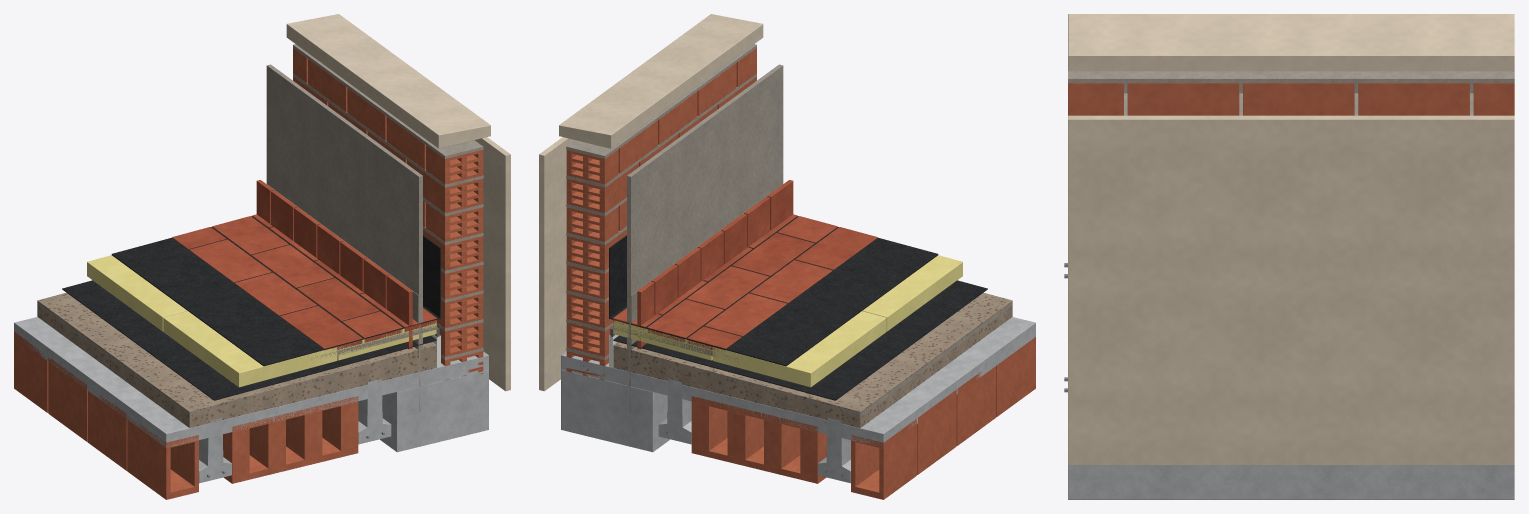
File: detalle1_montaje_piezas.glb
The picture shows the model from 3 angles, left to right: view 1: azimuth 30°, elevation 25°; view 2: azimuth 150°, elevation 25°; view 3: azimuth 270°, elevation 25°; orthographic projection. The views are drawn at different scales.
Parts seen in each view (by area): view 1: PH03_90_EnfoscadoInt, PH04_00_FPHormigon, PH07_00_Membrana, PH03_92_Albardilla, PH02_01_Compresion, PH01_00_BovedillaC, PH03_91_EnfoscadoExt, PH05_00_BarreraVapor, PH02_00_Zuncho, PH06_00_XPS, PH01_00_BovedillaL, PH06_02_XPS (+36 smaller); view 2: PH03_90_EnfoscadoInt, PH04_00_FPHormigon, PH07_00_Membrana, PH03_92_Albardilla, PH02_01_Compresion, PH01_03_BovedillaC, PH03_91_EnfoscadoExt, PH02_00_Zuncho, PH05_00_BarreraVapor, PH06_02_XPS, PH01_03_BovedillaL, PH06_00_XPS (+35 smaller); view 3: PH03_91_EnfoscadoExt, PH03_92_Albardilla, PH02_00_Zuncho, PH03_R7_M, PH03_R7_B1, PH03_R7_B2, PH03_R7_B3, PH03_R7_B0, PH03_R7_B4.
Part boxes in pixels (x1,y1,x2,y2): PH03_90_EnfoscadoInt: [266, 64, 422, 412]; PH04_00_FPHormigon: [37, 292, 436, 427]; PH07_00_Membrana: [111, 216, 440, 366]; PH03_92_Albardilla: [286, 14, 490, 148]; PH02_01_Compresion: [14, 317, 488, 447]; PH01_00_BovedillaC: [223, 396, 358, 483]; PH03_91_EnfoscadoExt: [475, 137, 510, 391]; PH05_00_BarreraVapor: [62, 280, 436, 400]; PH02_00_Zuncho: [380, 369, 488, 452]; PH06_00_XPS: [163, 311, 337, 387]; PH01_00_BovedillaL: [127, 417, 198, 499]; PH06_02_XPS: [87, 255, 187, 331]; PH03_90_EnfoscadoInt: [627, 64, 783, 412]; PH04_00_FPHormigon: [613, 292, 1012, 427]; PH07_00_Membrana: [609, 216, 938, 366]; PH03_92_Albardilla: [559, 14, 763, 148]; PH02_01_Compresion: [561, 317, 1035, 446]; PH01_03_BovedillaC: [691, 396, 826, 483]; PH03_91_EnfoscadoExt: [539, 137, 574, 391]; PH02_00_Zuncho: [561, 369, 669, 452]; PH05_00_BarreraVapor: [613, 280, 987, 400]; PH06_02_XPS: [712, 311, 886, 387]; PH01_03_BovedillaL: [851, 419, 916, 499]; PH06_00_XPS: [862, 255, 962, 331]; PH03_91_EnfoscadoExt: [1068, 115, 1514, 464]; PH03_92_Albardilla: [1068, 14, 1514, 71]; PH02_00_Zuncho: [1068, 465, 1514, 499]; PH03_R7_M: [1068, 71, 1514, 82]; PH03_R7_B1: [1127, 83, 1239, 115]; PH03_R7_B2: [1243, 83, 1354, 115]; PH03_R7_B3: [1358, 83, 1469, 115]; PH03_R7_B0: [1068, 83, 1123, 115]; PH03_R7_B4: [1473, 83, 1514, 115].
Size of the model in its own units: 1.25 by 1.07 by 0.968.
15 materials, 12 textured.
